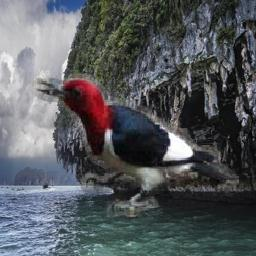Woodpecker: (29, 71, 240, 218)
